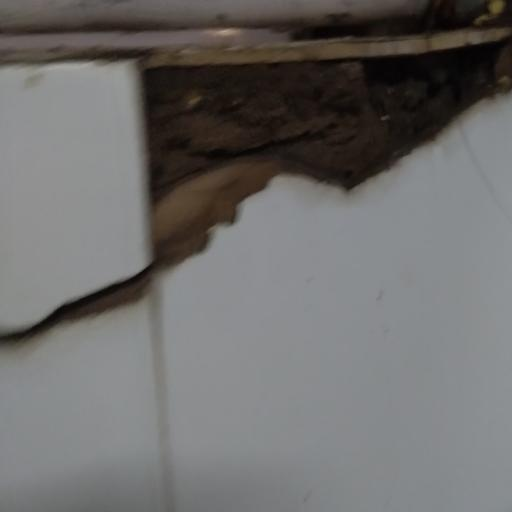spalling: (120, 29, 512, 280)
